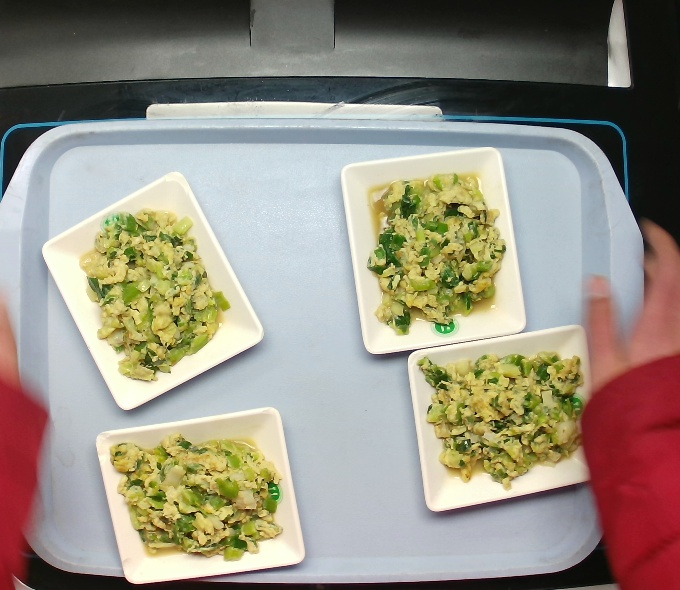wcq-SuanMiaoChaoDan: (69, 200, 234, 391), (99, 425, 291, 568), (363, 167, 512, 345), (417, 345, 592, 488)
